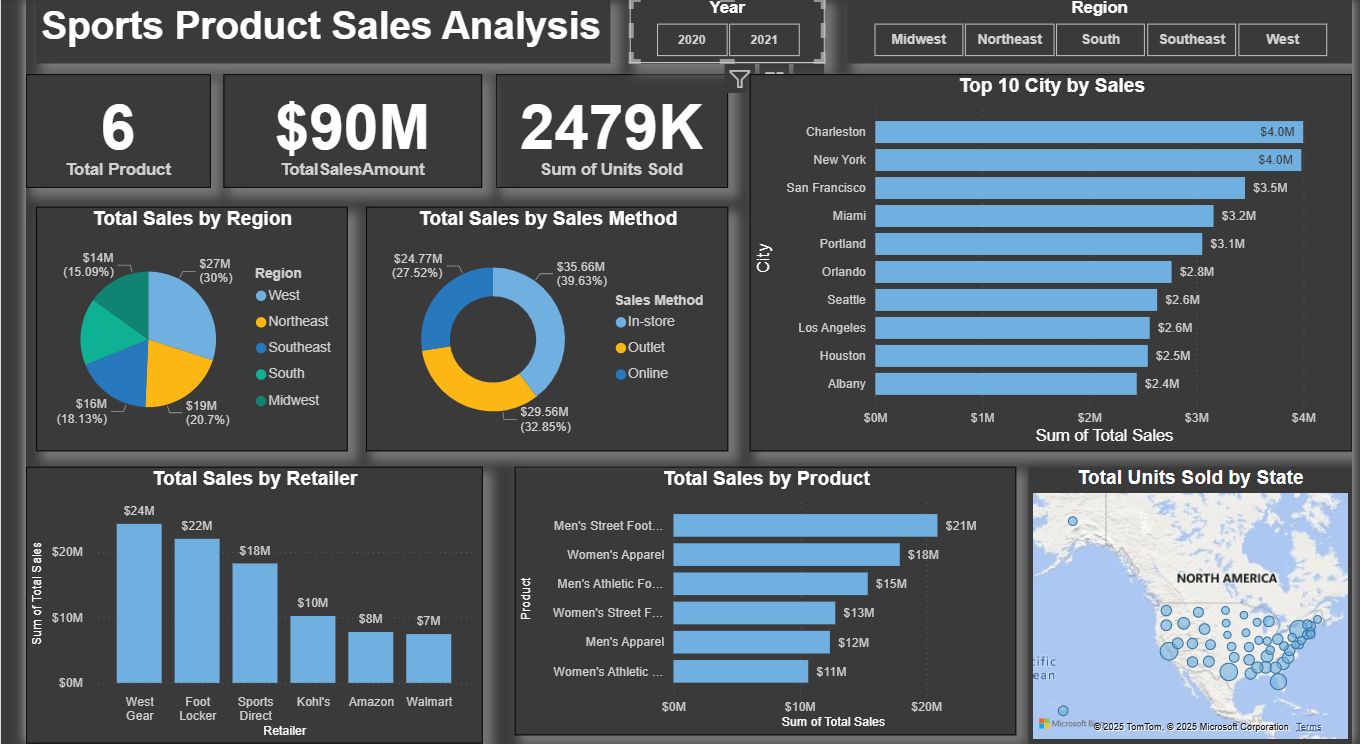

The page's visual inventory and layout, read from the dashboard file:
{"tool":"powerbi","page":{"name":"Page 2","canvas":[1280,720],"ordinal":1},"visuals":[{"type":"textbox","box":[9.6,0,554.4,63.1],"z":0},{"type":"card","fields":{"Values":["Count(SportProducts.Product)"]},"box":[0,74.1,178.4,109.8],"z":1},{"type":"card","fields":{"Values":["Sum(SportProducts.Units Sold)"]},"box":[454.2,74.1,223.7,109.8],"z":2},{"type":"card","fields":{"Values":["SportProducts.TotalSalesAmount"]},"box":[190.7,74.1,249.7,109.8],"z":3},{"type":"slicer","title":"Region","fields":{"Values":["SportProducts.Region"]},"box":[793.1,0,487.1,63.1],"z":4},{"type":"slicer","title":"Year","fields":{"Values":["SportProducts.Year"]},"box":[583.2,0,188,63.1],"z":5},{"type":"clusteredBarChart","title":"Top 10 City by Sales ","fields":{"Category":["SportProducts.City"],"Y":["Sum(SportProducts.Total Sales)"]},"box":[698.5,74.1,581.8,363.6],"z":6},{"type":"pieChart","title":"Total Sales by Region","fields":{"Y":["SportProducts.TotalSalesAmount"],"Category":["SportProducts.Region"]},"box":[9.6,201.7,300.5,236],"z":7},{"type":"clusteredBarChart","title":"Total Sales by Product","fields":{"Category":["SportProducts.Product"],"Y":["Sum(SportProducts.Total Sales)"]},"box":[472,452.8,484.4,259.3],"z":8},{"type":"donutChart","title":"Total Sales by Sales Method","fields":{"Category":["SportProducts.Sales Method"],"Y":["Sum(SportProducts.Total Sales)"]},"box":[328,201.7,349.9,236],"z":9},{"type":"columnChart","title":"Total Sales by Retailer","fields":{"Category":["SportProducts.Retailer"],"Y":["Sum(SportProducts.Total Sales)"]},"box":[0,452.8,440.5,267.6],"z":10},{"type":"map","title":"Total Units Sold by State","fields":{"Category":["SportProducts.State"],"Size":["Sum(SportProducts.Units Sold)"]},"box":[967.4,452.8,312.9,267.6],"z":11}]}

Visuals, with their boxes in screenshot pixels (x1, y1, x2, y2), scaled from the page's 1280x720 canvas onto the 1360x744 screenshot:
textbox: select_region(10, 0, 599, 65)
card - Count(SportProducts.Product): select_region(0, 77, 190, 190)
card - Sum(SportProducts.Units Sold): select_region(483, 77, 720, 190)
card - SportProducts.TotalSalesAmount: select_region(203, 77, 468, 190)
"Region" slicer: select_region(843, 0, 1359, 65)
"Year" slicer: select_region(620, 0, 819, 65)
"Top 10 City by Sales " clusteredBarChart: select_region(742, 77, 1359, 452)
"Total Sales by Region" pieChart: select_region(10, 208, 329, 452)
"Total Sales by Product" clusteredBarChart: select_region(502, 468, 1016, 736)
"Total Sales by Sales Method" donutChart: select_region(348, 208, 720, 452)
"Total Sales by Retailer" columnChart: select_region(0, 468, 468, 743)
"Total Units Sold by State" map: select_region(1028, 468, 1359, 743)
